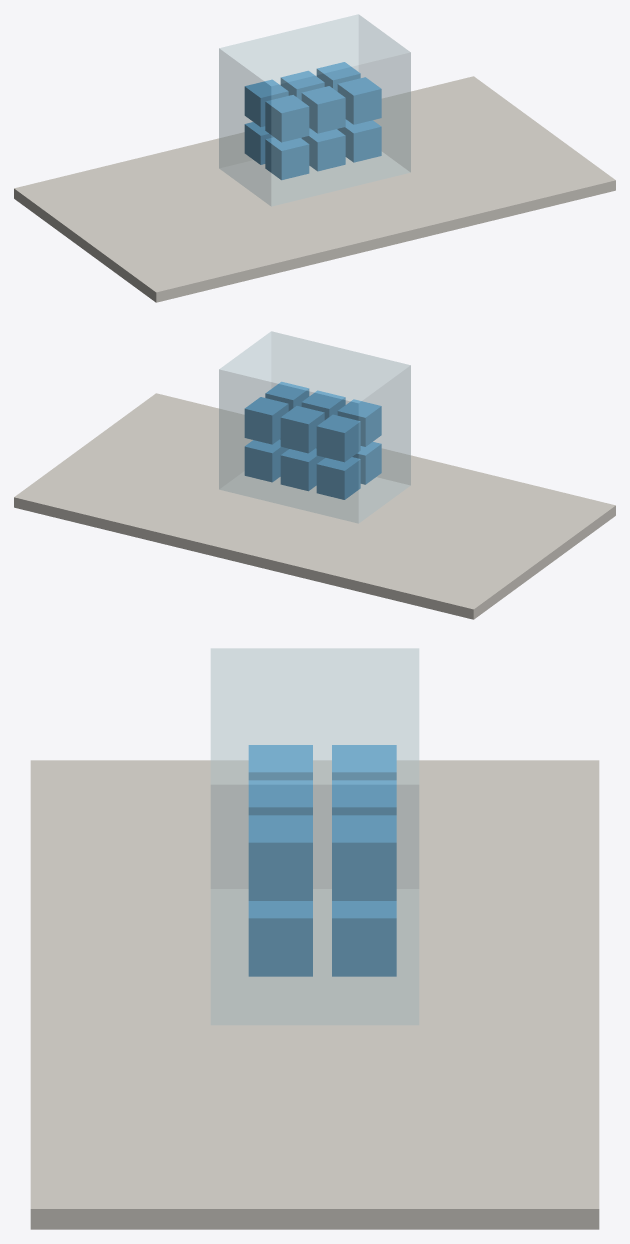
Rendered from math-geometry-volume.glb.
3 renders of one model, top to bottom at view 1: azimuth 30°, elevation 25°; view 2: azimuth 150°, elevation 25°; view 3: azimuth 270°, elevation 25°, orthographic. The views are drawn at different scales.
Parts seen in each view (by area): view 1: manipulative-base, volume-box-shell, unit-cube-0-1-1, unit-cube-0-0-1, unit-cube-1-1-1, unit-cube-2-1-1, unit-cube-1-0-1, unit-cube-2-0-1, unit-cube-0-1-0, unit-cube-0-0-0, unit-cube-1-1-0, unit-cube-2-1-0; view 2: manipulative-base, volume-box-shell, unit-cube-0-1-0, unit-cube-0-0-0, unit-cube-2-1-0, unit-cube-1-1-0, unit-cube-2-0-0, unit-cube-1-0-0, unit-cube-0-1-1, unit-cube-0-0-1, unit-cube-2-1-1, unit-cube-1-1-1; view 3: manipulative-base, volume-box-shell, unit-cube-2-1-0, unit-cube-2-1-1, unit-cube-2-0-0, unit-cube-2-0-1, unit-cube-0-1-0, unit-cube-1-1-0, unit-cube-0-1-1, unit-cube-1-1-1.
Part boxes in pixels (box(x1,y1,x2,y2)): manipulative-base: box(14, 76, 615, 302); volume-box-shell: box(219, 14, 410, 206); unit-cube-0-1-1: box(265, 95, 309, 142); unit-cube-0-0-1: box(265, 137, 309, 180); unit-cube-1-1-1: box(301, 86, 345, 133); unit-cube-2-1-1: box(337, 77, 381, 124); unit-cube-1-0-1: box(301, 128, 345, 171); unit-cube-2-0-1: box(337, 119, 381, 162); unit-cube-0-1-0: box(244, 79, 288, 127); unit-cube-0-0-0: box(244, 122, 273, 164); unit-cube-1-1-0: box(280, 70, 324, 100); unit-cube-2-1-0: box(316, 62, 360, 91); manipulative-base: box(14, 393, 615, 619); volume-box-shell: box(219, 331, 410, 523); unit-cube-0-1-0: box(316, 414, 360, 462); unit-cube-0-0-0: box(316, 457, 360, 499); unit-cube-2-1-0: box(244, 397, 288, 444); unit-cube-1-1-0: box(280, 406, 324, 453); unit-cube-2-0-0: box(244, 439, 288, 482); unit-cube-1-0-0: box(280, 448, 324, 491); unit-cube-0-1-1: box(337, 399, 381, 446); unit-cube-0-0-1: box(352, 442, 381, 484); unit-cube-2-1-1: box(265, 381, 309, 411); unit-cube-1-1-1: box(301, 390, 345, 419); manipulative-base: box(30, 760, 599, 1229); volume-box-shell: box(210, 648, 419, 1025); unit-cube-2-1-0: box(332, 815, 396, 900); unit-cube-2-1-1: box(248, 815, 312, 900); unit-cube-2-0-0: box(332, 901, 396, 976); unit-cube-2-0-1: box(248, 901, 312, 976); unit-cube-0-1-0: box(332, 745, 396, 780); unit-cube-1-1-0: box(332, 780, 396, 815); unit-cube-0-1-1: box(248, 745, 312, 780); unit-cube-1-1-1: box(248, 780, 312, 815).
Size of what is drawn, in the model's own units: 2.8 by 0.84 by 1.5.
